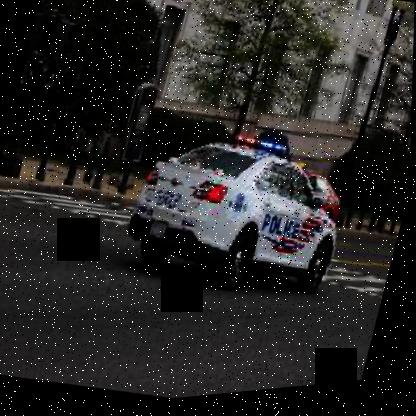emergency: (98, 104, 391, 336)
